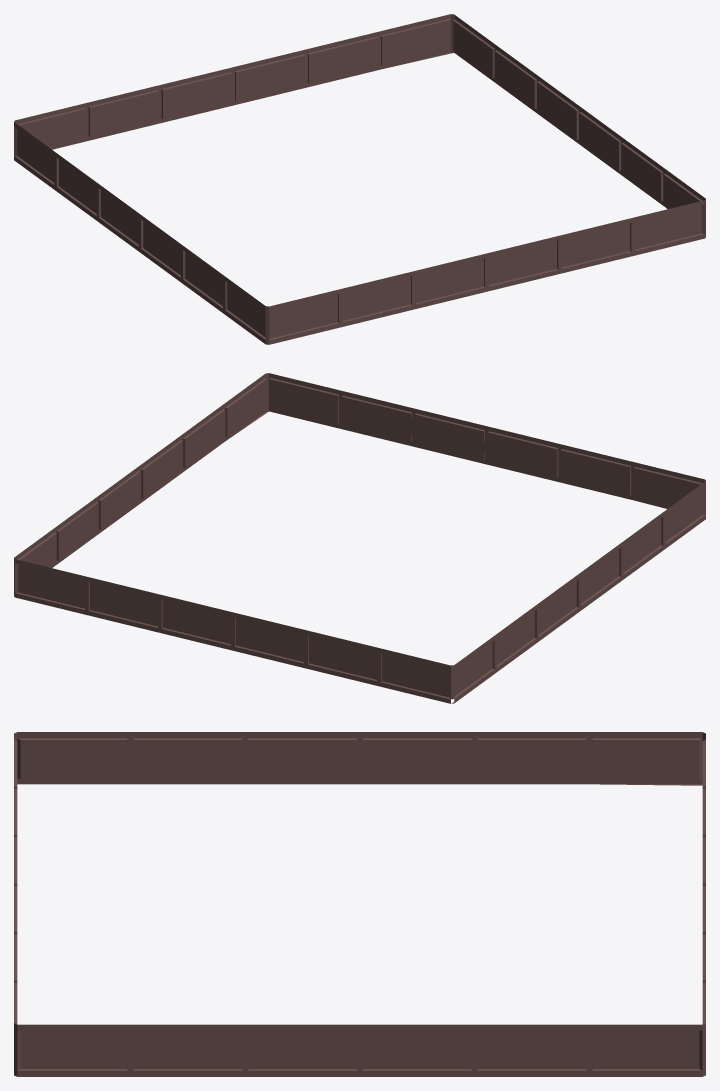
Rendered from MissilePlatform_Walls.fbx.
The picture shows the model from 3 angles, top to bottom: view 1: azimuth 30°, elevation 25°; view 2: azimuth 150°, elevation 25°; view 3: azimuth 270°, elevation 25°; orthographic projection. The views are drawn at different scales.
Visible parts, largest first — view 1: Platform.007; view 2: Platform.007; view 3: Platform.007.
Boxes of the visible parts, x1,y1,x2,y2 form: Platform.007: (14, 14, 705, 344); Platform.007: (14, 373, 705, 703); Platform.007: (14, 732, 705, 1076).
Size of the model in its own units: 3600 by 300 by 3600.
